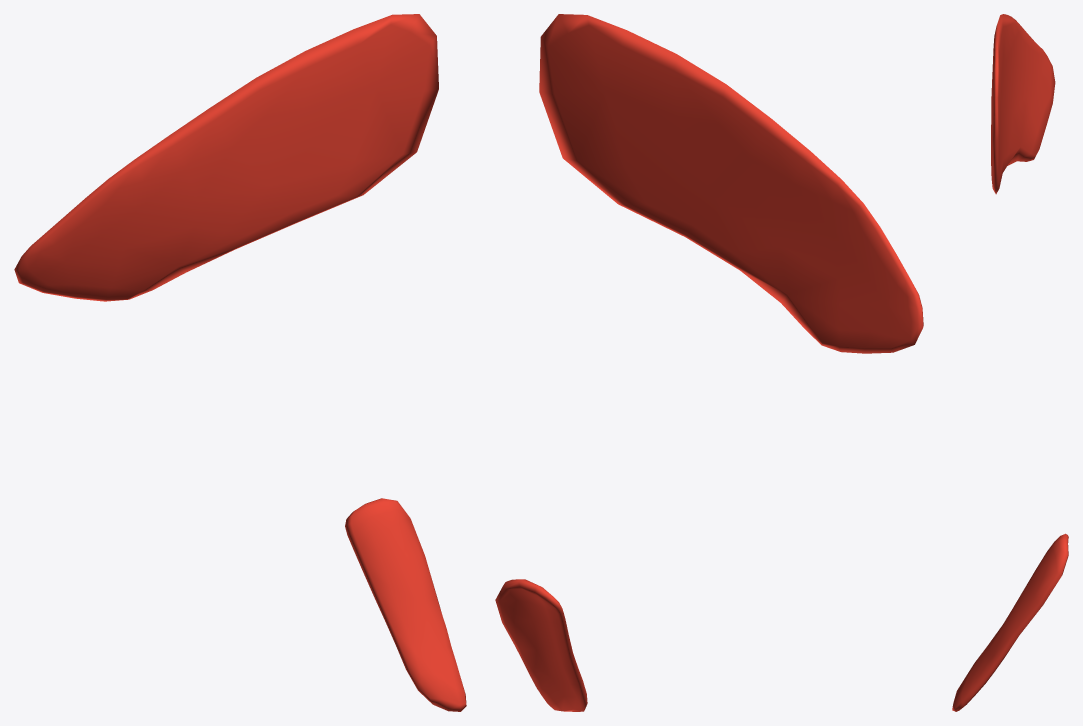
Rendered from Procerus-_Insertions.r_Generated_Mesh_From_X3D.756.glb.
The picture shows the model from 3 angles, left to right: view 1: azimuth 30°, elevation 25°; view 2: azimuth 150°, elevation 25°; view 3: azimuth 270°, elevation 25°; orthographic projection. The views are drawn at different scales.
Visible parts, largest first — view 1: Procerus-_Insertions.r_Generated_Mesh_From_X3D.756; view 2: Procerus-_Insertions.r_Generated_Mesh_From_X3D.756; view 3: Procerus-_Insertions.r_Generated_Mesh_From_X3D.756.
Boxes of the visible parts, bbox=[...] form: Procerus-_Insertions.r_Generated_Mesh_From_X3D.756: bbox=[14, 14, 466, 711]; Procerus-_Insertions.r_Generated_Mesh_From_X3D.756: bbox=[495, 14, 923, 711]; Procerus-_Insertions.r_Generated_Mesh_From_X3D.756: bbox=[952, 14, 1068, 711].
Bounding box in the file's own units: 0.0213 × 0.0347 × 0.00571.
